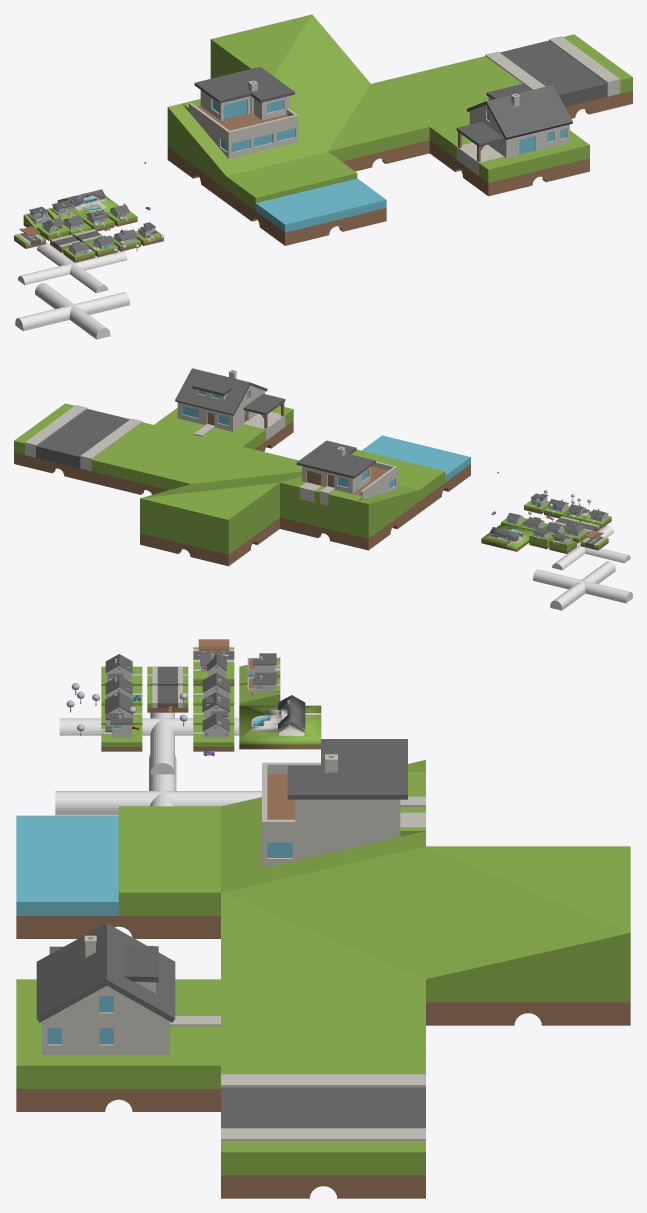
File: print_buildings-houses_v1.dae
The picture shows the model from 3 angles, top to bottom: view 1: azimuth 30°, elevation 25°; view 2: azimuth 150°, elevation 25°; view 3: azimuth 270°, elevation 25°; orthographic projection. The views are drawn at different scales.
Parts seen in each view (by area): view 1: hill-ramp, PRINT-house-small-carport-right, PRINT-house-small-carport-right_005, PRINT-house-small-carport-right_003, PRINT-house-small-carport-right_001, PRINT-house-small-carport-right_004, PRINT-house-small-carport-right_002, Cylinder_stamp, Cylinder_000, house-luxurious, gas-station, house-small-carport-right (+2 smaller); view 2: hill-ramp, PRINT-house-small-carport-right_004, PRINT-house-small-carport-right, PRINT-house-small-carport-right_001, PRINT-house-small-carport-right_002, PRINT-house-small-carport-right_005, PRINT-house-small-carport-right_003, Cylinder_stamp, house-luxurious, Cylinder_000, house-hill-normal, house-hill-small (+3 smaller); view 3: PRINT-house-small-carport-right_004, PRINT-house-small-carport-right, PRINT-house-small-carport-right_001, PRINT-house-small-carport-right_005, PRINT-house-small-carport-right_003, hill-ramp, PRINT-house-small-carport-right_002, Cylinder_stamp, house-luxurious, Cylinder_000, house-modern, house-small_2 (+9 smaller).
Boxes of the visible parts, left/top/right/bottom form: hill-ramp: left=167, top=66, right=327, bottom=202; PRINT-house-small-carport-right: left=429, top=83, right=589, bottom=196; PRINT-house-small-carport-right_005: left=226, top=151, right=386, bottom=245; PRINT-house-small-carport-right_003: left=282, top=82, right=429, bottom=171; PRINT-house-small-carport-right_001: left=473, top=34, right=632, bottom=118; PRINT-house-small-carport-right_004: left=210, top=14, right=370, bottom=83; PRINT-house-small-carport-right_002: left=371, top=59, right=509, bottom=126; Cylinder_stamp: left=15, top=283, right=129, bottom=339; Cylinder_000: left=18, top=242, right=127, bottom=293; house-luxurious: left=57, top=189, right=119, bottom=218; gas-station: left=14, top=226, right=45, bottom=248; house-small-carport-right: left=63, top=241, right=95, bottom=262; hill-ramp: left=280, top=440, right=419, bottom=550; PRINT-house-small-carport-right_004: left=140, top=482, right=279, bottom=566; PRINT-house-small-carport-right: left=154, top=368, right=293, bottom=451; PRINT-house-small-carport-right_001: left=14, top=403, right=153, bottom=485; PRINT-house-small-carport-right_002: left=102, top=425, right=241, bottom=494; PRINT-house-small-carport-right_005: left=351, top=435, right=470, bottom=512; PRINT-house-small-carport-right_003: left=192, top=446, right=301, bottom=483; Cylinder_stamp: left=533, top=561, right=632, bottom=610; house-luxurious: left=481, top=523, right=533, bottom=551; Cylinder_000: left=552, top=525, right=630, bottom=570; house-hill-normal: left=549, top=532, right=576, bottom=553; house-hill-small: left=529, top=527, right=553, bottom=549; PRINT-house-small-carport-right_004: left=426, top=846, right=630, bottom=1025; PRINT-house-small-carport-right: left=16, top=923, right=220, bottom=1111; PRINT-house-small-carport-right_001: left=221, top=1065, right=425, bottom=1198; PRINT-house-small-carport-right_005: left=16, top=806, right=220, bottom=938; PRINT-house-small-carport-right_003: left=221, top=846, right=425, bottom=979; hill-ramp: left=221, top=739, right=425, bottom=892; PRINT-house-small-carport-right_002: left=221, top=979, right=425, bottom=1065; Cylinder_stamp: left=55, top=754, right=261, bottom=815; house-luxurious: left=239, top=695, right=321, bottom=749; Cylinder_000: left=59, top=712, right=239, bottom=774; house-modern: left=101, top=713, right=142, bottom=751; house-small_2: left=193, top=713, right=234, bottom=751.
Size of the model in its own units: 248 by 120 by 53.31.
Materials: 37 (1 with a texture image).
